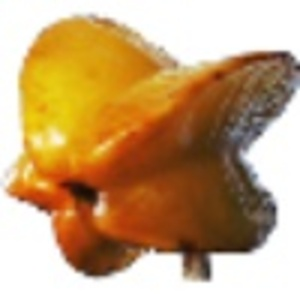carambola: (2, 13, 300, 284)
